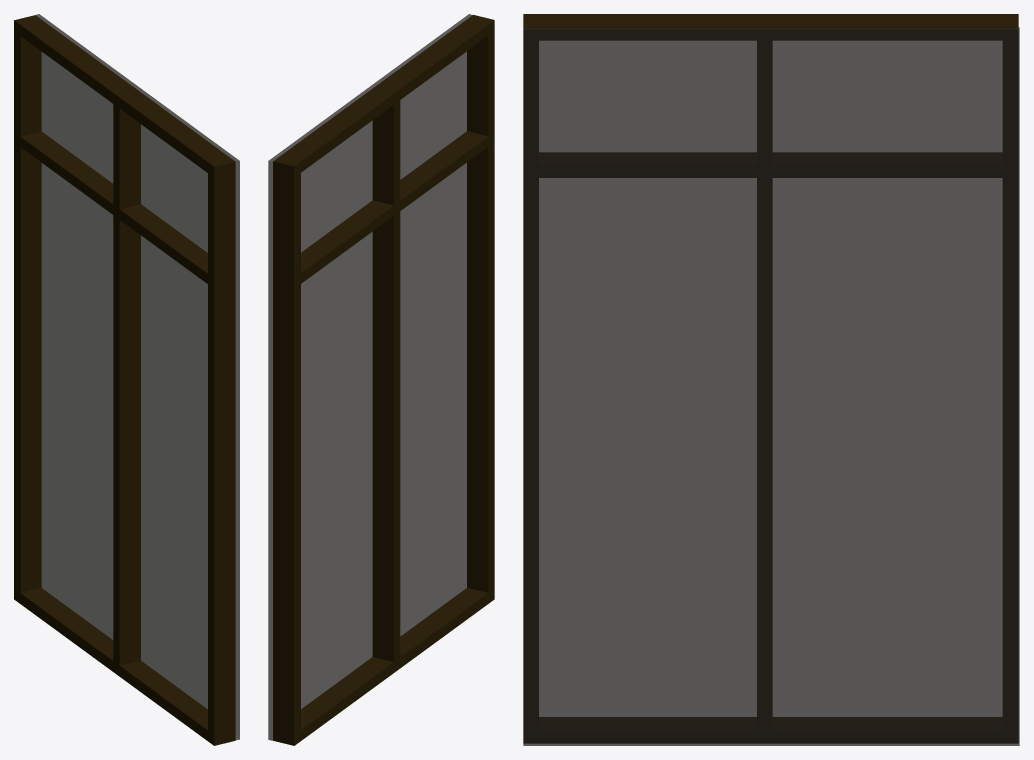
The model's file is LongWindowGeneral(2LH-Join).fbx.
3 views of the same model, side by side, from view 1: azimuth 30°, elevation 25°; view 2: azimuth 150°, elevation 25°; view 3: azimuth 270°, elevation 25° (orthographic). The views are drawn at different scales.
Parts seen in each view (by area): view 1: Glass; view 2: Glass; view 3: Glass.
Boxes of the visible parts, x1,y1,x2,y2 form: Glass: [14, 14, 239, 745]; Glass: [268, 14, 494, 745]; Glass: [523, 14, 1019, 745].
Size of the model in its own units: 120 by 2600 by 1633.
